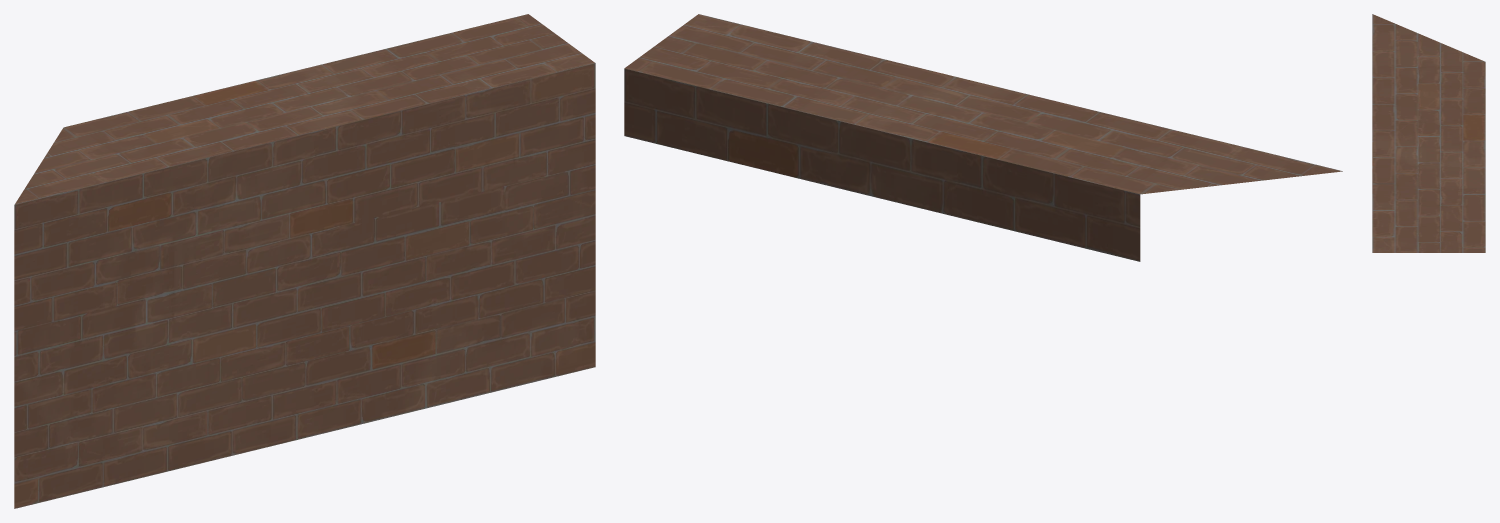
File: cornice-brick-l.glb
The picture shows the model from 3 angles, left to right: view 1: azimuth 30°, elevation 25°; view 2: azimuth 150°, elevation 25°; view 3: azimuth 270°, elevation 25°; orthographic projection. The views are drawn at different scales.
Visible parts, largest first — view 1: Cornice_Brick_L; view 2: Cornice_Brick_L; view 3: Cornice_Brick_L.
Part boxes in pixels (x1,y1,x2,y2): Cornice_Brick_L: (14, 14, 595, 508); Cornice_Brick_L: (624, 14, 1342, 261); Cornice_Brick_L: (1372, 14, 1485, 252).
Bounding box in the file's own units: 2 × 1 × 0.4.
1 material, 1 textured.
